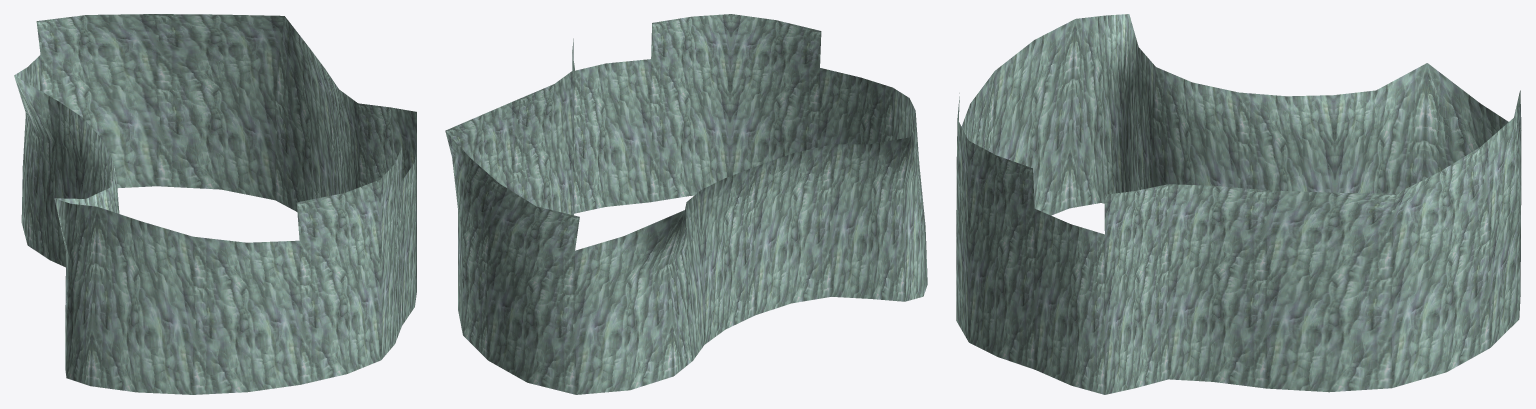
The model's file is TROLLHOLE02_PS-SECRETCAVE03.fbx.
3 views of the same model, side by side, from view 1: azimuth 30°, elevation 25°; view 2: azimuth 150°, elevation 25°; view 3: azimuth 270°, elevation 25° (orthographic). The views are drawn at different scales.
Visible parts, largest first — view 1: TROLLHOLE02_PS-SECRETCAVE03; view 2: TROLLHOLE02_PS-SECRETCAVE03; view 3: TROLLHOLE02_PS-SECRETCAVE03.
Boxes of the visible parts, x1,y1,x2,y2 form: TROLLHOLE02_PS-SECRETCAVE03: (14,14,416,394); TROLLHOLE02_PS-SECRETCAVE03: (445,14,927,394); TROLLHOLE02_PS-SECRETCAVE03: (956,14,1521,394).
Bounding box in the file's own units: 356484 × 176537 × 445563.
1 material, 1 textured.
